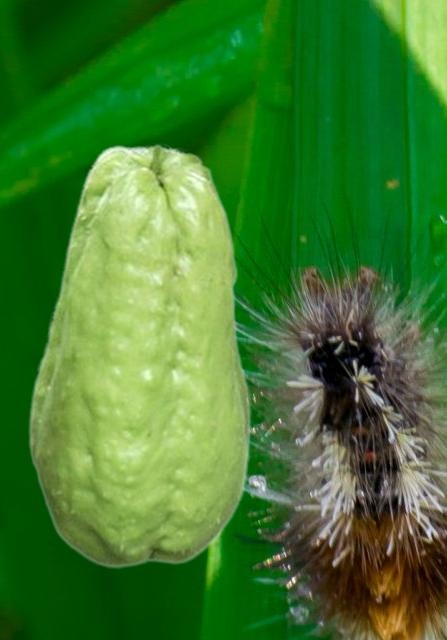sayote: (27, 143, 252, 569)
